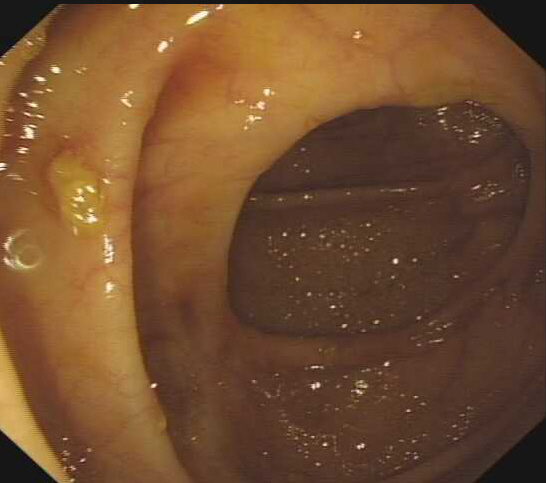adenoma: (43, 147, 110, 238)
